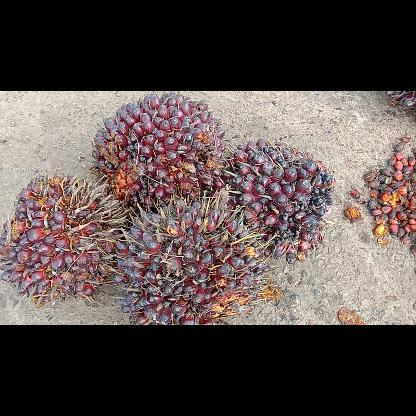Kurang masak: (112, 192, 278, 324), (0, 171, 131, 310), (213, 134, 339, 264)
TBS masak: (89, 91, 229, 213)
